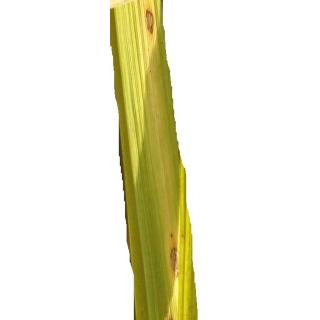bercak-Cokelat: (164, 226, 186, 280), (140, 5, 162, 42)
